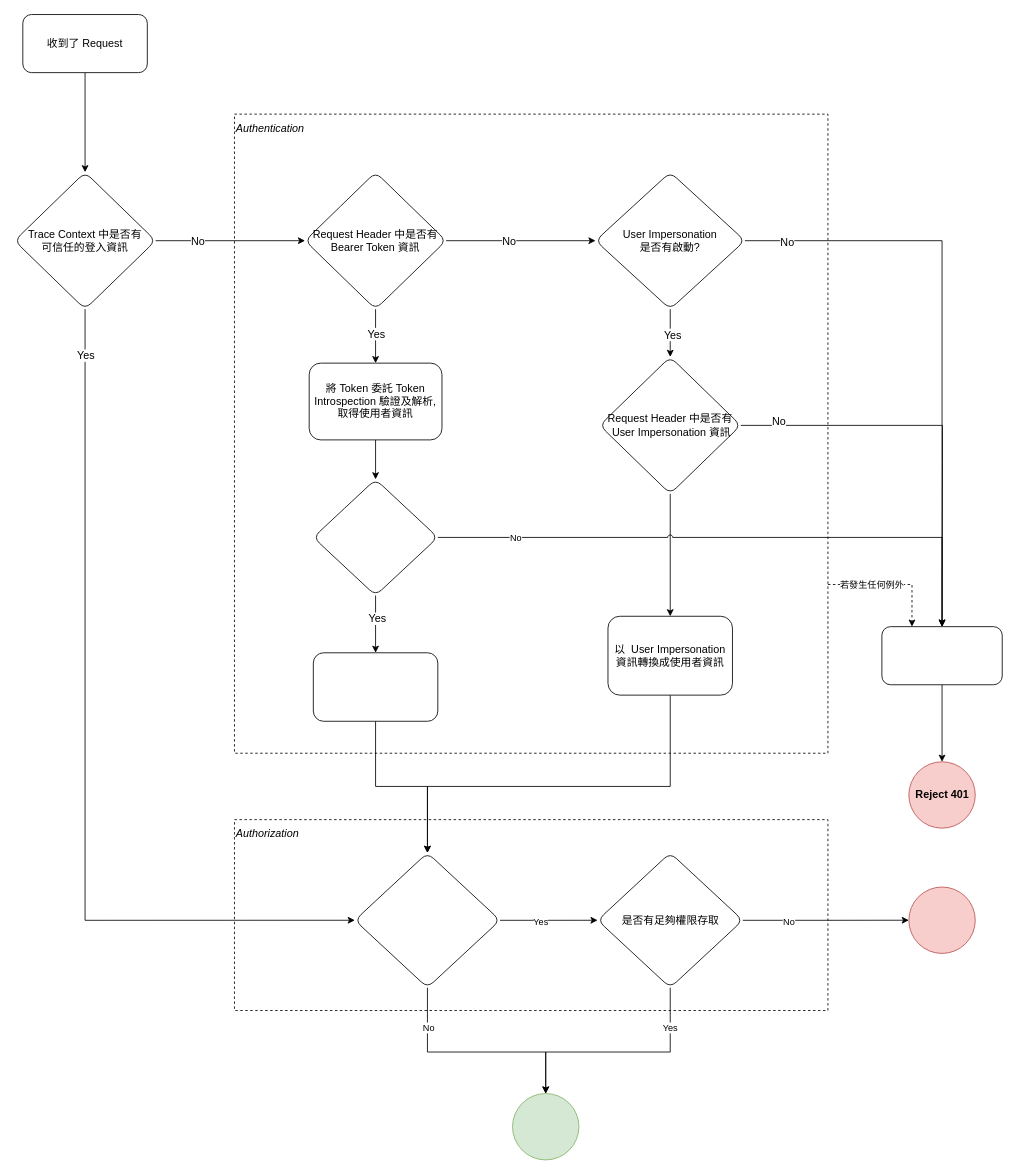
Image size: 1017x1174. Some labels were removed from this diagram. The centre of each missing label's shape, as x and y in pixels:
"Authentication Failure 處理" goes at point 941,655.
"Binding Authorities" goes at point 375,686.
"Reject 403" goes at point 941,919.
"使用者是否啟用?" goes at point 375,537.
"成功" goes at point 545,1126.
"是否需要權限控制" goes at point 427,920.
